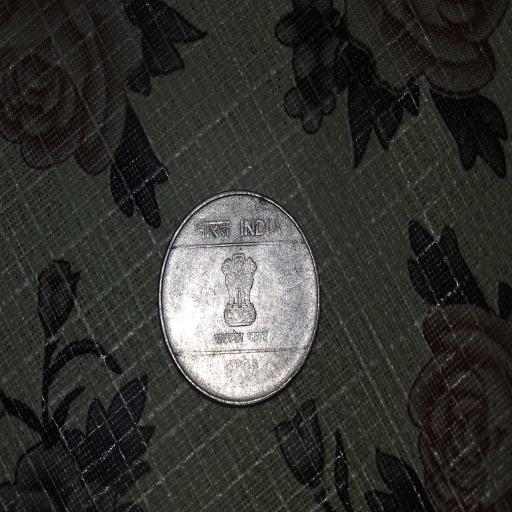rupee2: (158, 196, 323, 407)
